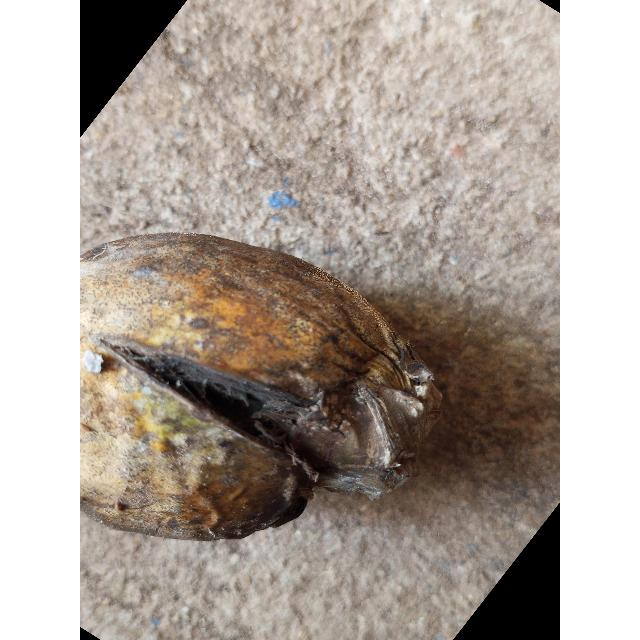damaged: (80, 234, 441, 540)
